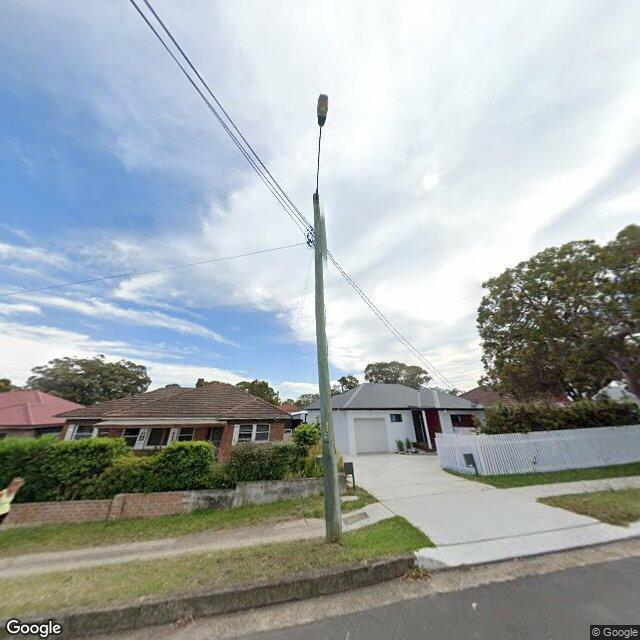streetlight: (314, 93, 329, 199)
timber-pole: (312, 191, 343, 545)
